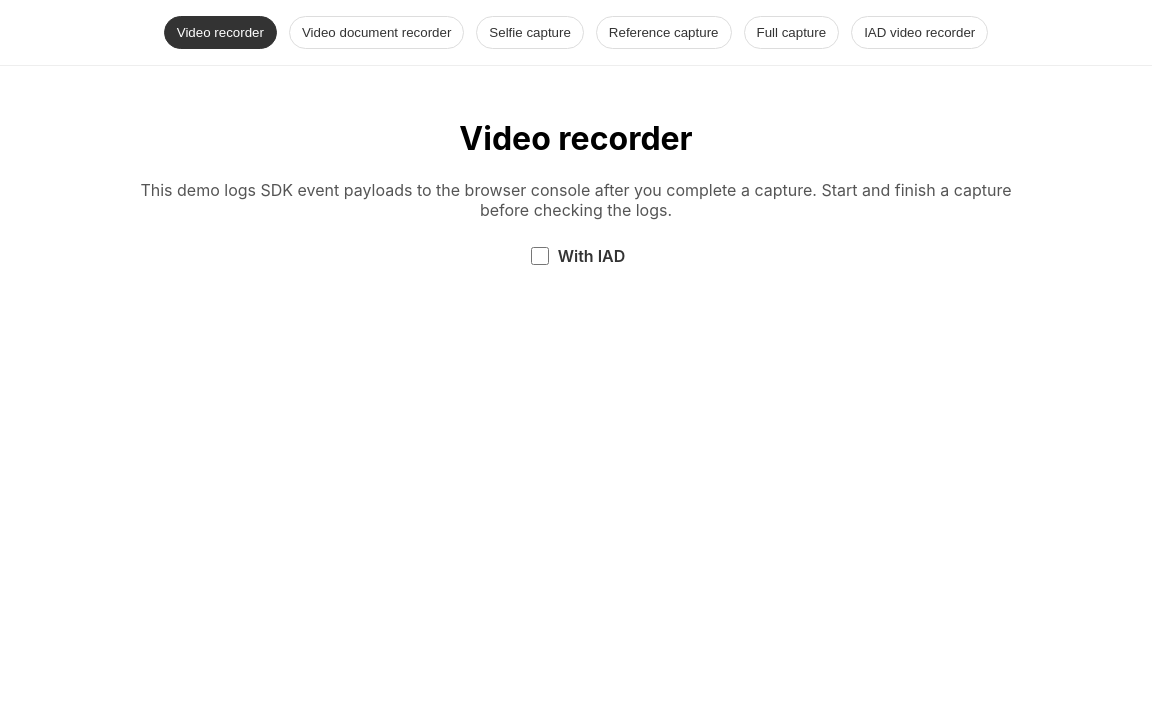
navigates to each capture page
This screenshot has width=1152, height=720.
What coordinates should you click on to do the following:
click the button "Selfie capture"
I would click on:
 (530, 32)
Its box is [476,16,584,49].
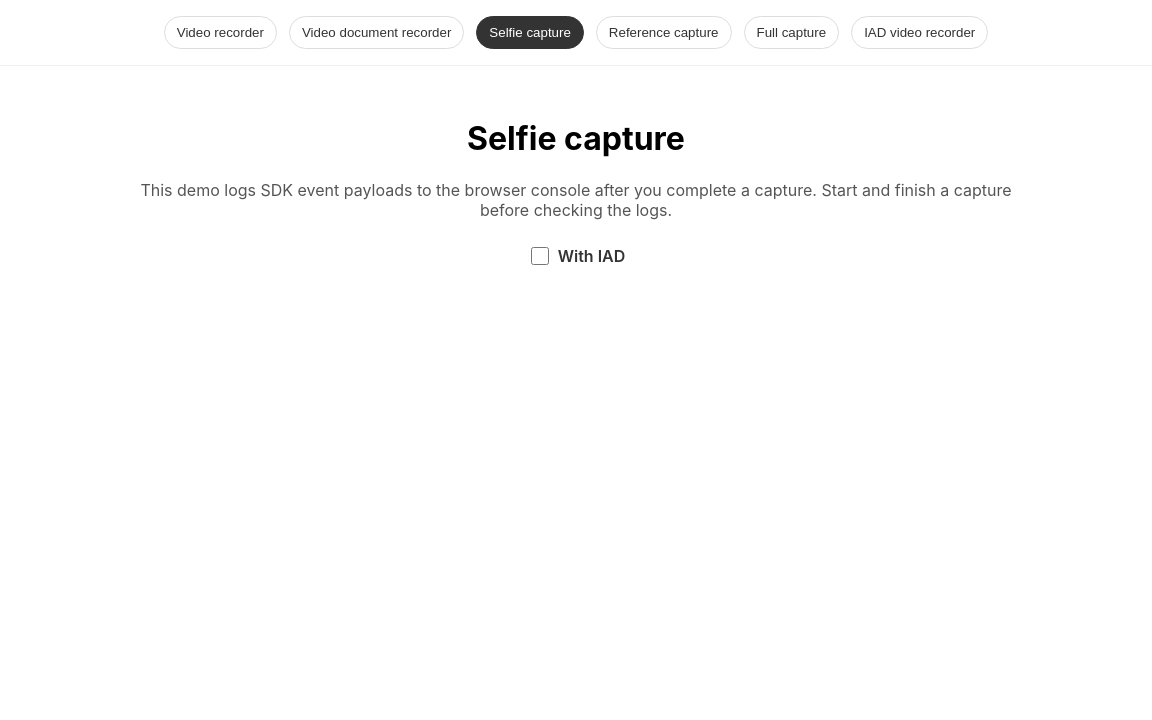
What coordinates should you click on to do the following:
click the button "Reference capture"
I would click on:
 (664, 32)
Its box is [596,16,732,49].
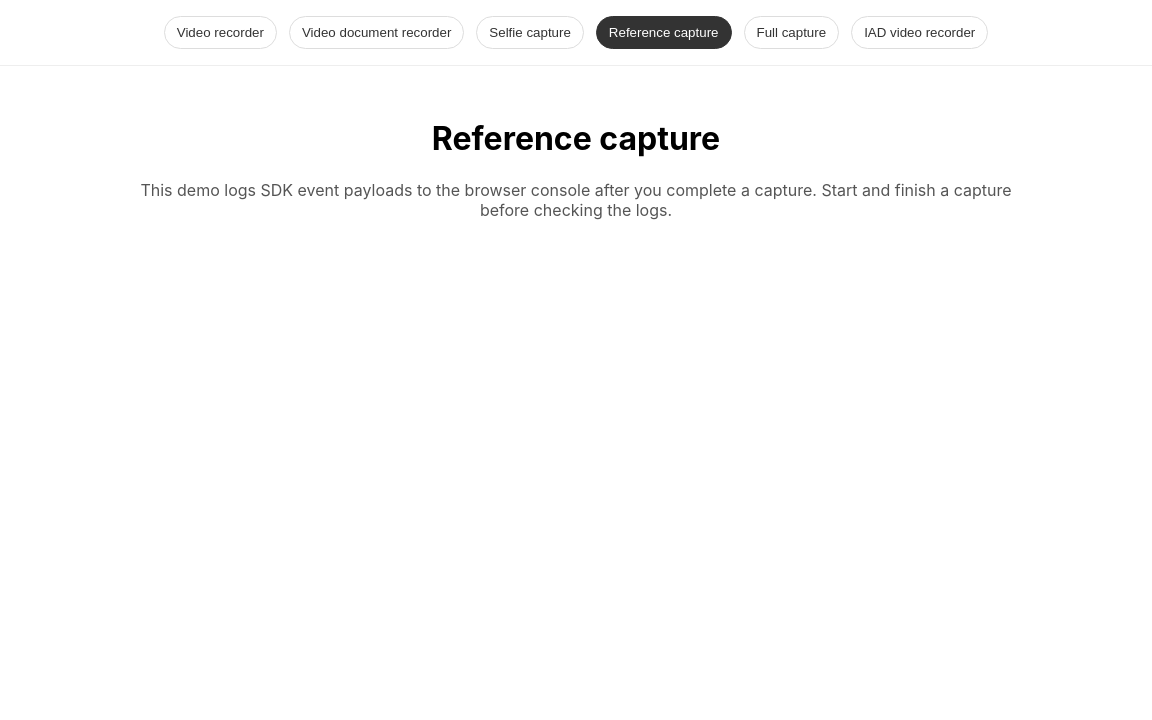
What coordinates should you click on to do the following:
click the button "Full capture"
I would click on:
 (791, 32)
Its box is [744,16,839,49].
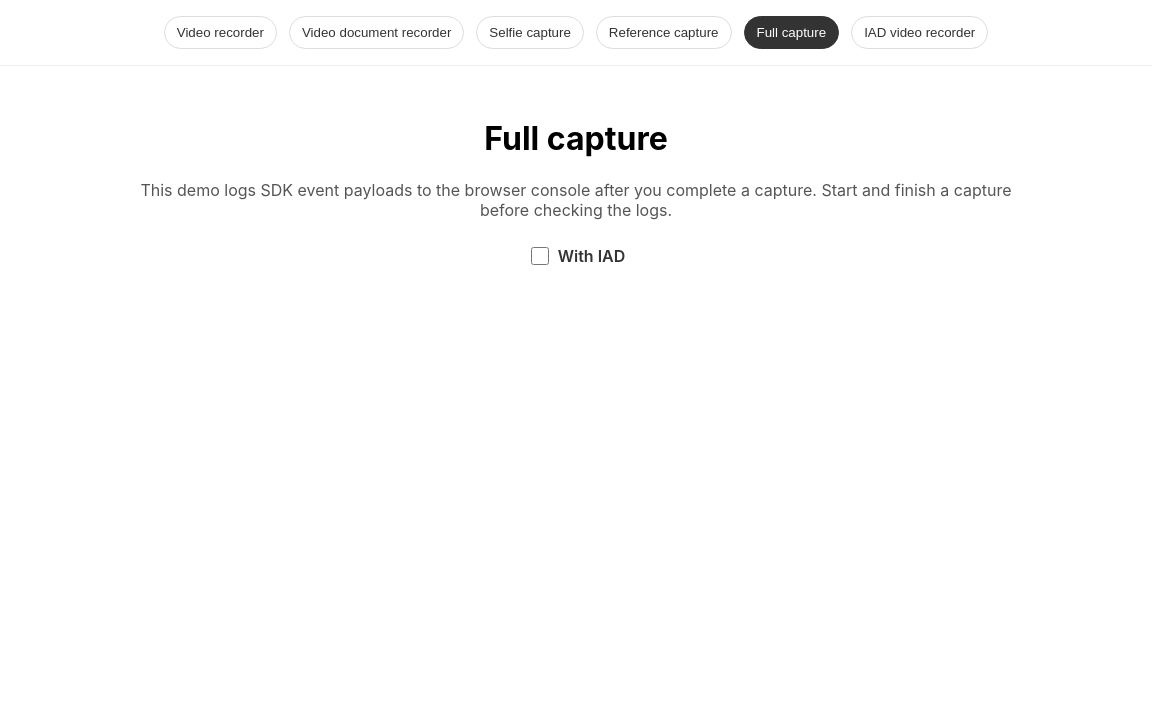
What coordinates should you click on to do the following:
click the button "IAD video recorder"
I would click on:
 (920, 32)
Its box is [851,16,988,49].
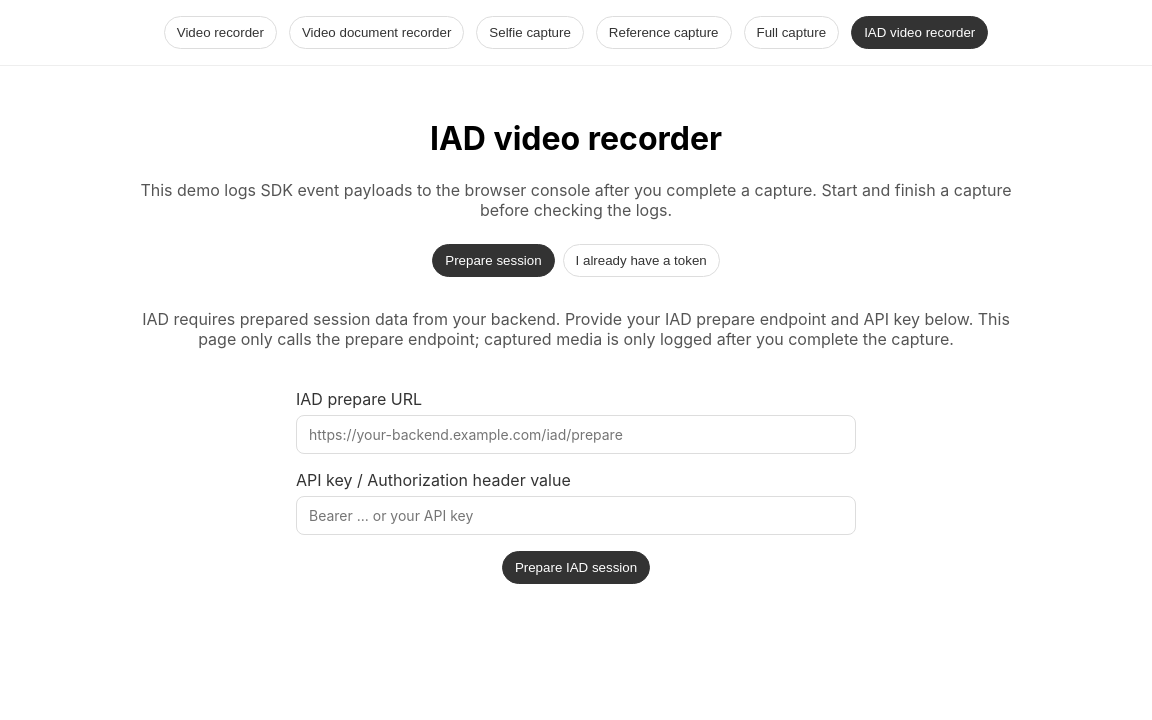
Check: the button "Prepare session" is shown, box [432,244,555,277]
